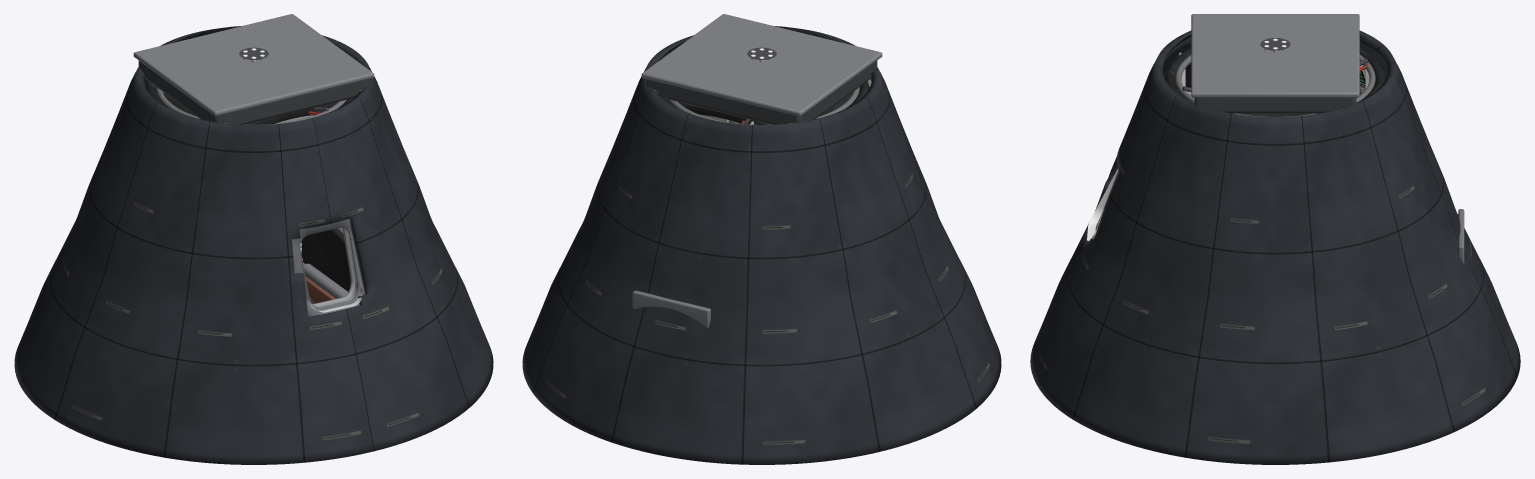
File: Conical1vInterior.fbx
3 renders of one model, left to right at view 1: azimuth 30°, elevation 25°; view 2: azimuth 150°, elevation 25°; view 3: azimuth 270°, elevation 25°, orthographic. The views are drawn at different scales.
Visible parts, largest first — view 1: Mesh_WallPanel, Mesh_CouchFrame, Mesh_ModulePlate, Mesh_Console, Mesh_FrameDark, Mesh_Frame, Mesh_Bezel, Mesh_SeatShell; view 2: Mesh_WallPanel, Mesh_CouchFrame, Mesh_ModulePlate, Mesh_Console; view 3: Mesh_WallPanel, Mesh_CouchFrame, Mesh_ModulePlate, Mesh_Console, Mesh_Frame, Mesh_Bezel.
Part boxes in pixels (box(x1,y1,x2,y2)): Mesh_WallPanel: box(14, 26, 493, 464); Mesh_CouchFrame: box(133, 14, 374, 264); Mesh_ModulePlate: box(138, 60, 369, 232); Mesh_Console: box(146, 81, 353, 291); Mesh_FrameDark: box(239, 47, 365, 316); Mesh_Frame: box(156, 87, 355, 306); Mesh_Bezel: box(163, 92, 362, 312); Mesh_SeatShell: box(303, 263, 347, 303); Mesh_WallPanel: box(522, 26, 1001, 464); Mesh_CouchFrame: box(632, 14, 882, 327); Mesh_ModulePlate: box(646, 60, 877, 124); Mesh_Console: box(662, 81, 869, 124); Mesh_WallPanel: box(1030, 30, 1520, 464); Mesh_CouchFrame: box(1190, 14, 1464, 263); Mesh_ModulePlate: box(1178, 53, 1365, 113); Mesh_Console: box(1165, 48, 1385, 116); Mesh_Frame: box(1175, 55, 1375, 117); Mesh_Bezel: box(1087, 52, 1369, 240).
Size of the model in its own units: 1.19 by 0.87 by 1.19.
